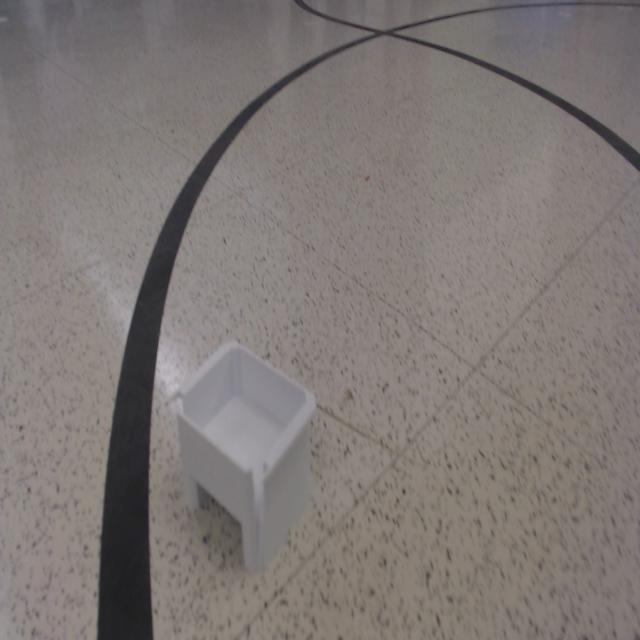wbox: (174, 336, 318, 574)
